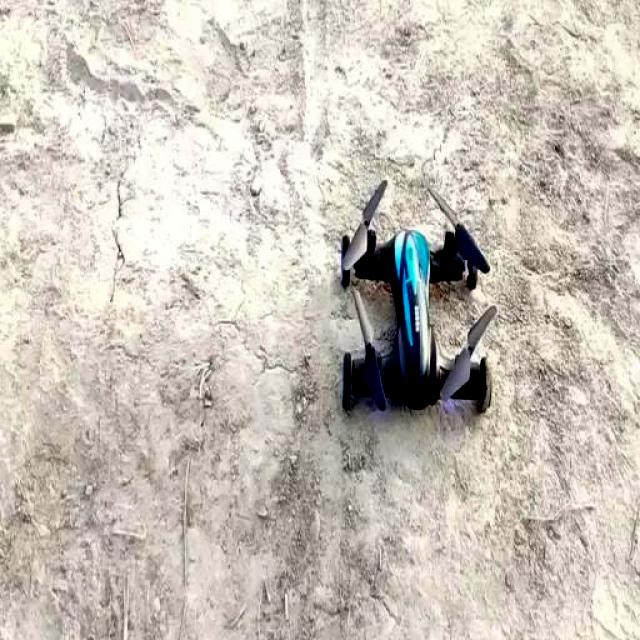bird: (310, 131, 509, 438)
